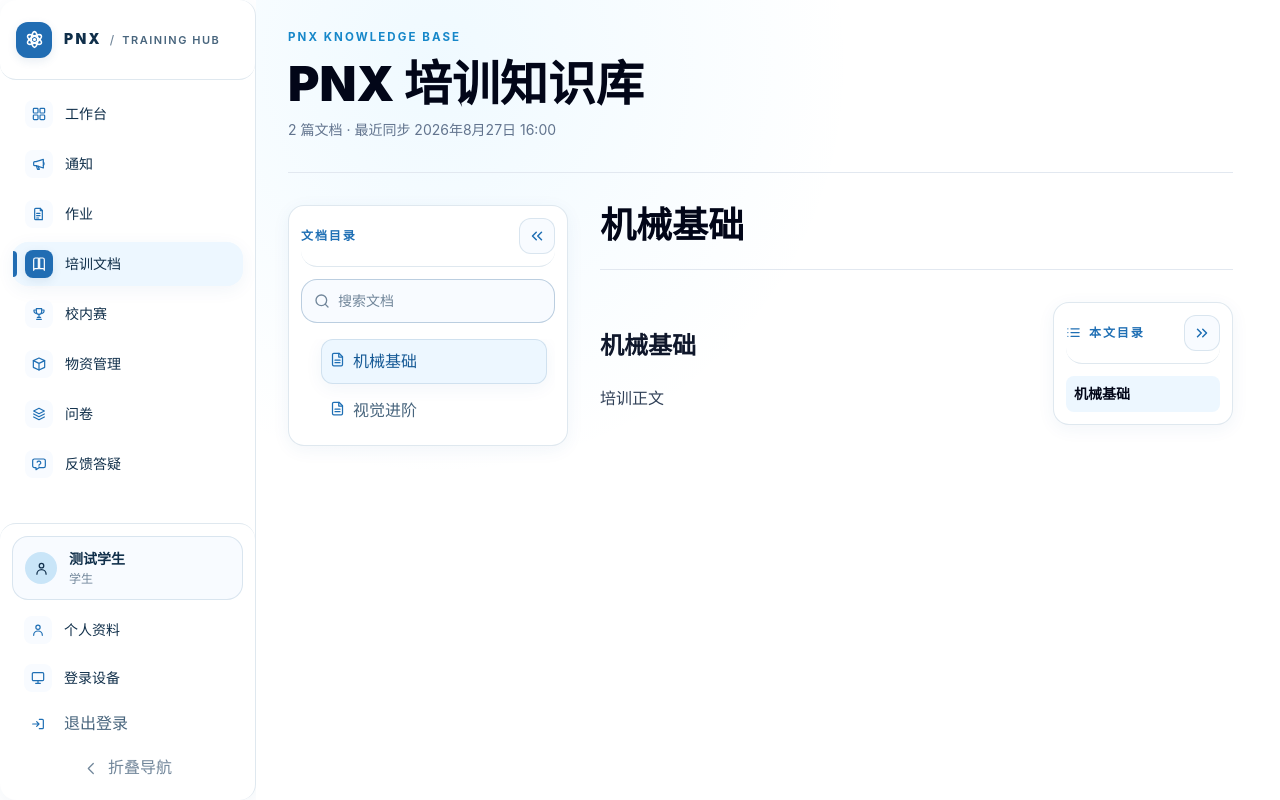
Test: knowledge reader › keeps the current document visible when the next document fails
The image size is (1280, 800).
Step 1. Click the button "视觉进阶" → [434, 410], box [321,388,547,433]
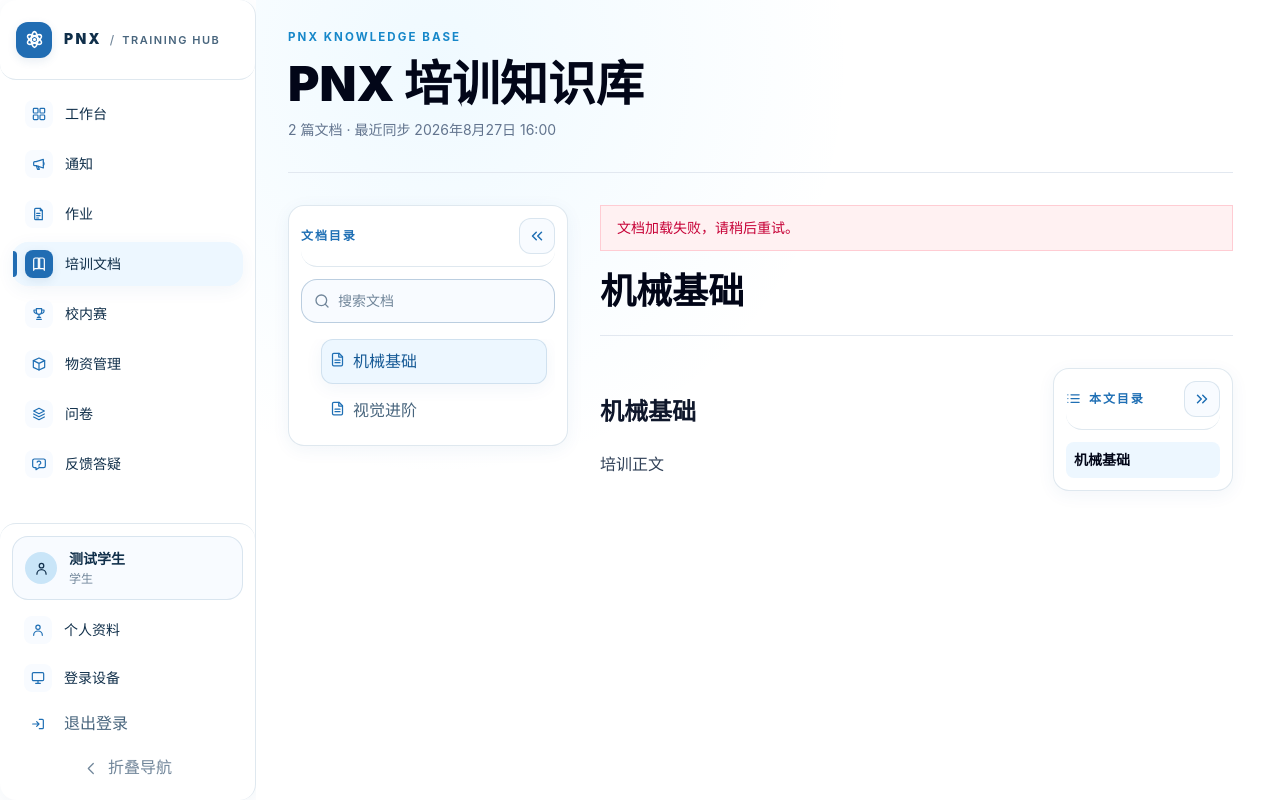
Expected: the 1st heading "机械基础" is shown, [600,269,744,313]
Result: the message shows "文档加载失败" at [617,219,799,236]
